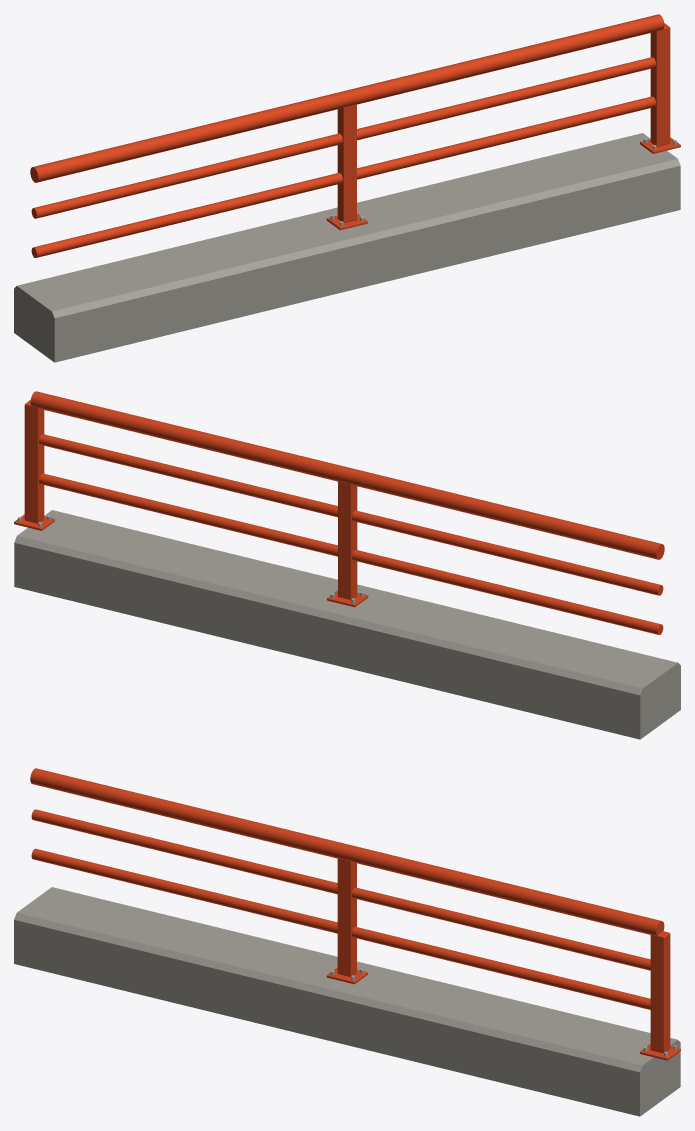
File: small_bridge_railing_4m.fbx
3 views of the same model, one above another, from view 1: azimuth 30°, elevation 25°; view 2: azimuth 150°, elevation 25°; view 3: azimuth 330°, elevation 25° (orthographic).
Visible parts, largest first — view 1: small_bridge_railing_4m; view 2: small_bridge_railing_4m; view 3: small_bridge_railing_4m.
Part boxes in pixels (bbox=[...]): small_bridge_railing_4m: bbox=[14, 14, 680, 362]; small_bridge_railing_4m: bbox=[14, 391, 680, 739]; small_bridge_railing_4m: bbox=[14, 768, 680, 1116].
Bounding box in the file's own units: 4.09 × 1.1 × 0.45.
